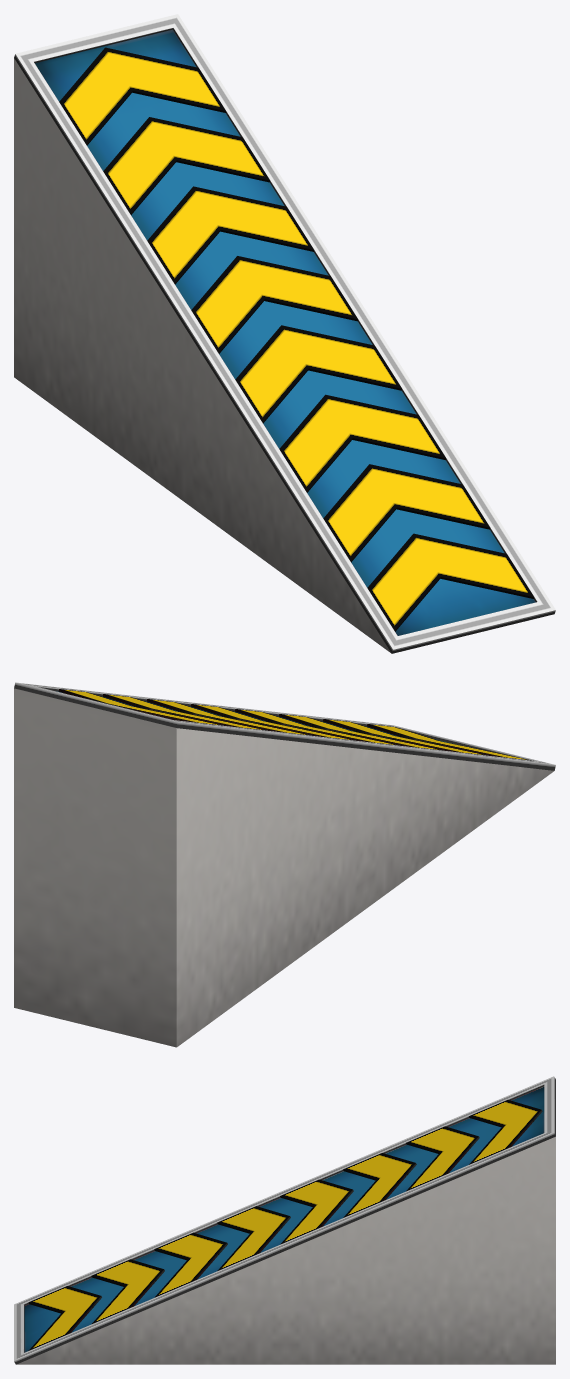
Rendered from JumpAscent02.FBX.
3 views of the same model, one above another, from view 1: azimuth 30°, elevation 25°; view 2: azimuth 150°, elevation 25°; view 3: azimuth 270°, elevation 25° (orthographic). The views are drawn at different scales.
Parts seen in each view (by area): view 1: JumpAscent02; view 2: JumpAscent02; view 3: JumpAscent02.
Part boxes in pixels (x1=…): JumpAscent02: x1=14, y1=14, x2=555, y2=653; JumpAscent02: x1=14, y1=682, x2=555, y2=1047; JumpAscent02: x1=14, y1=1076, x2=555, y2=1364.
Bounding box in the file's own units: 80 × 152 × 323.
